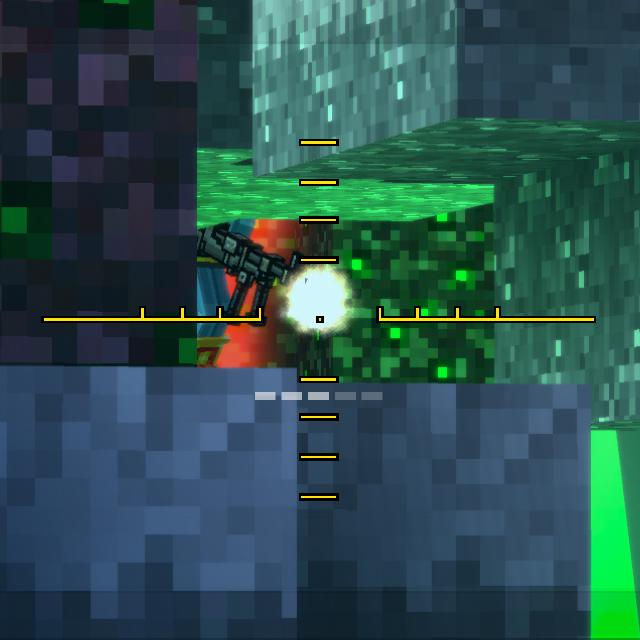Enemy: (168, 222, 288, 369)
